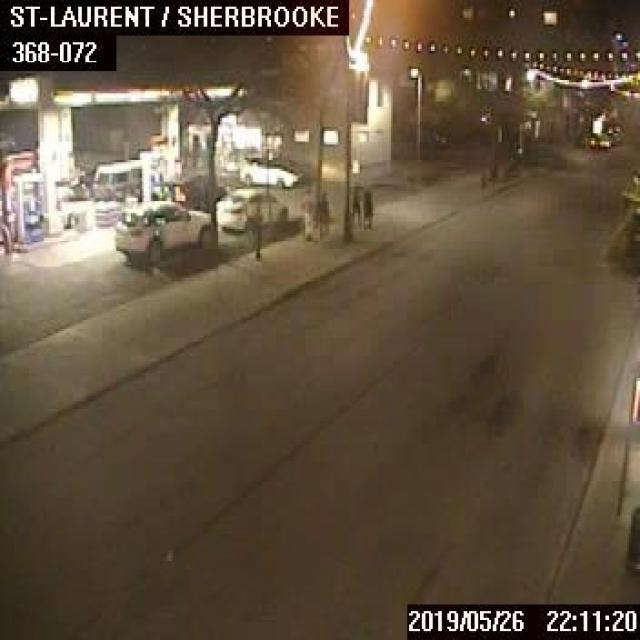pedestrian: (247, 204, 260, 255), (300, 186, 312, 239), (348, 182, 358, 227), (361, 185, 370, 227)
vehicle: (113, 197, 210, 263), (214, 186, 285, 230), (238, 150, 302, 185), (93, 156, 141, 200), (587, 131, 609, 149), (606, 124, 622, 144)
